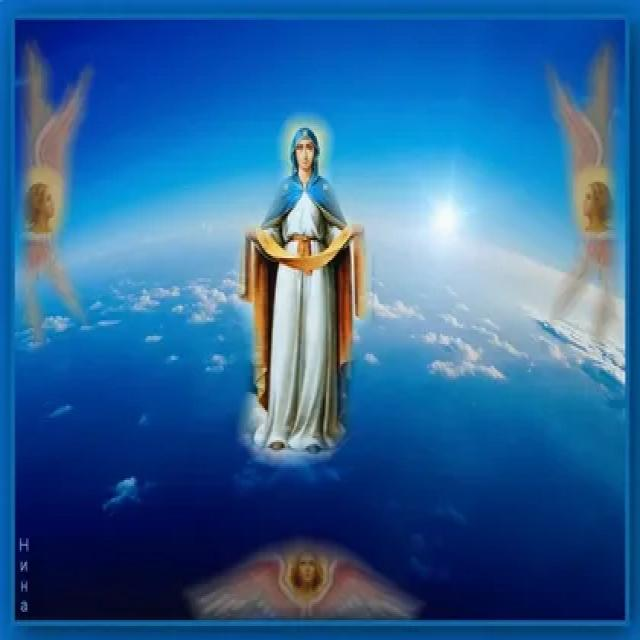mother of god: (234, 106, 378, 471)
